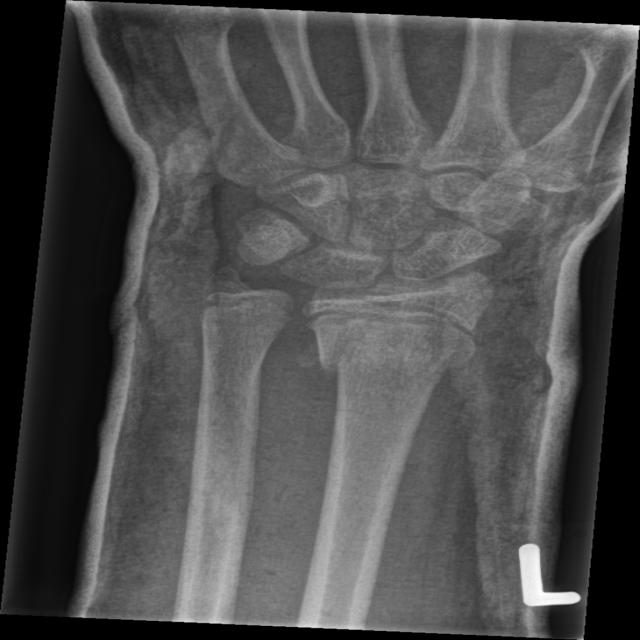radius fracture: (305, 326, 480, 452)
